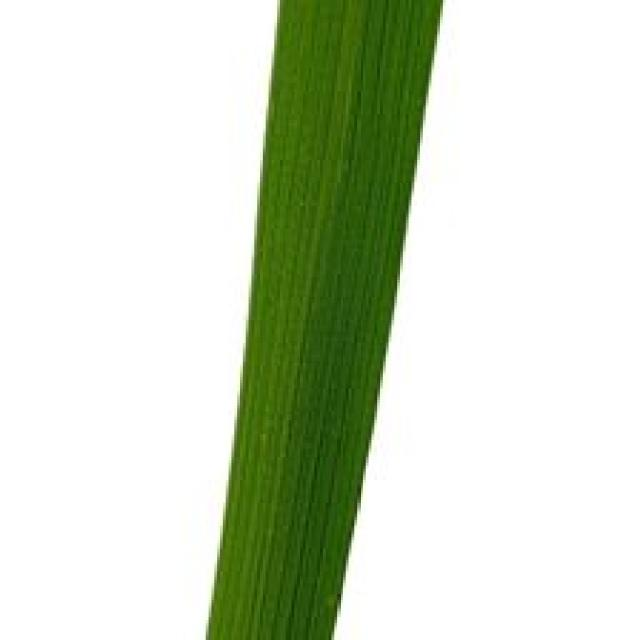Rice___Healthy_Rice_Plant: (204, 0, 446, 637)
